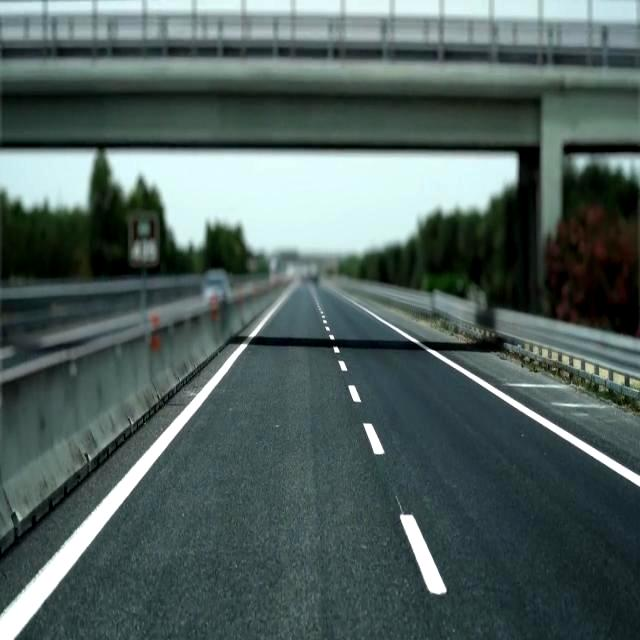lane: (0, 281, 301, 639), (349, 301, 640, 487), (397, 498, 448, 594), (364, 422, 384, 454)
road: (16, 283, 639, 639), (0, 340, 239, 609)
